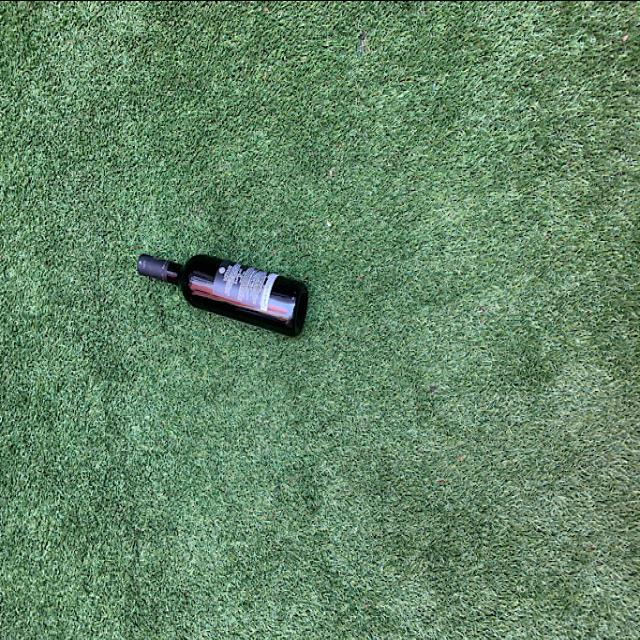PET: (92, 198, 340, 372)
